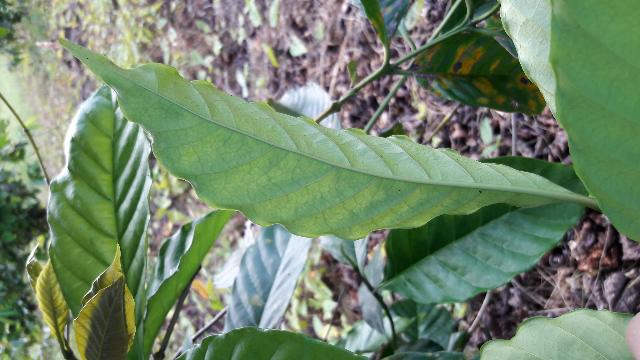healthy: (67, 43, 574, 238)
